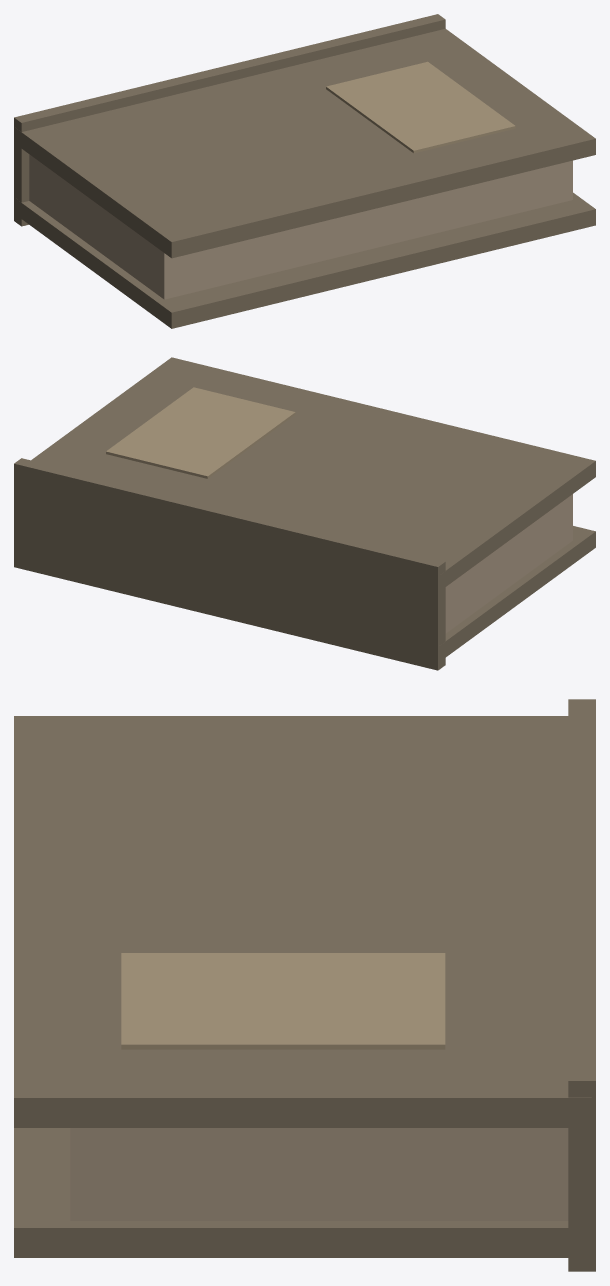
File: boenkie.fbx
The picture shows the model from 3 angles, top to bottom: view 1: azimuth 30°, elevation 25°; view 2: azimuth 150°, elevation 25°; view 3: azimuth 270°, elevation 25°; orthographic projection. The views are drawn at different scales.
Visible parts, largest first — view 1: pasted__pCube1, pCube3, pCube1, pCube4, pCube2; view 2: pasted__pCube1, pCube2, pCube4, pCube3, pCube1; view 3: pasted__pCube1, pCube3, pCube4, pCube1, pCube2.
Boxes of the visible parts, left/top/right/bottom form: pasted__pCube1: left=15, top=28, right=595, bottom=258; pCube3: left=29, top=154, right=572, bottom=299; pCube1: left=15, top=192, right=595, bottom=328; pCube4: left=326, top=61, right=515, bottom=153; pCube2: left=14, top=14, right=445, bottom=226; pasted__pCube1: left=31, top=357, right=595, bottom=591; pCube2: left=14, top=458, right=445, bottom=670; pCube4: left=106, top=387, right=295, bottom=478; pCube3: left=445, top=494, right=572, bottom=633; pCube1: left=439, top=526, right=595, bottom=661; pasted__pCube1: left=14, top=716, right=591, bottom=1127; pCube3: left=70, top=1128, right=568, bottom=1220; pCube4: left=121, top=953, right=445, bottom=1049; pCube1: left=14, top=1128, right=591, bottom=1257; pCube2: left=568, top=699, right=595, bottom=1271.
Size of the model in its own units: 9.08 by 2.12 by 5.85.
